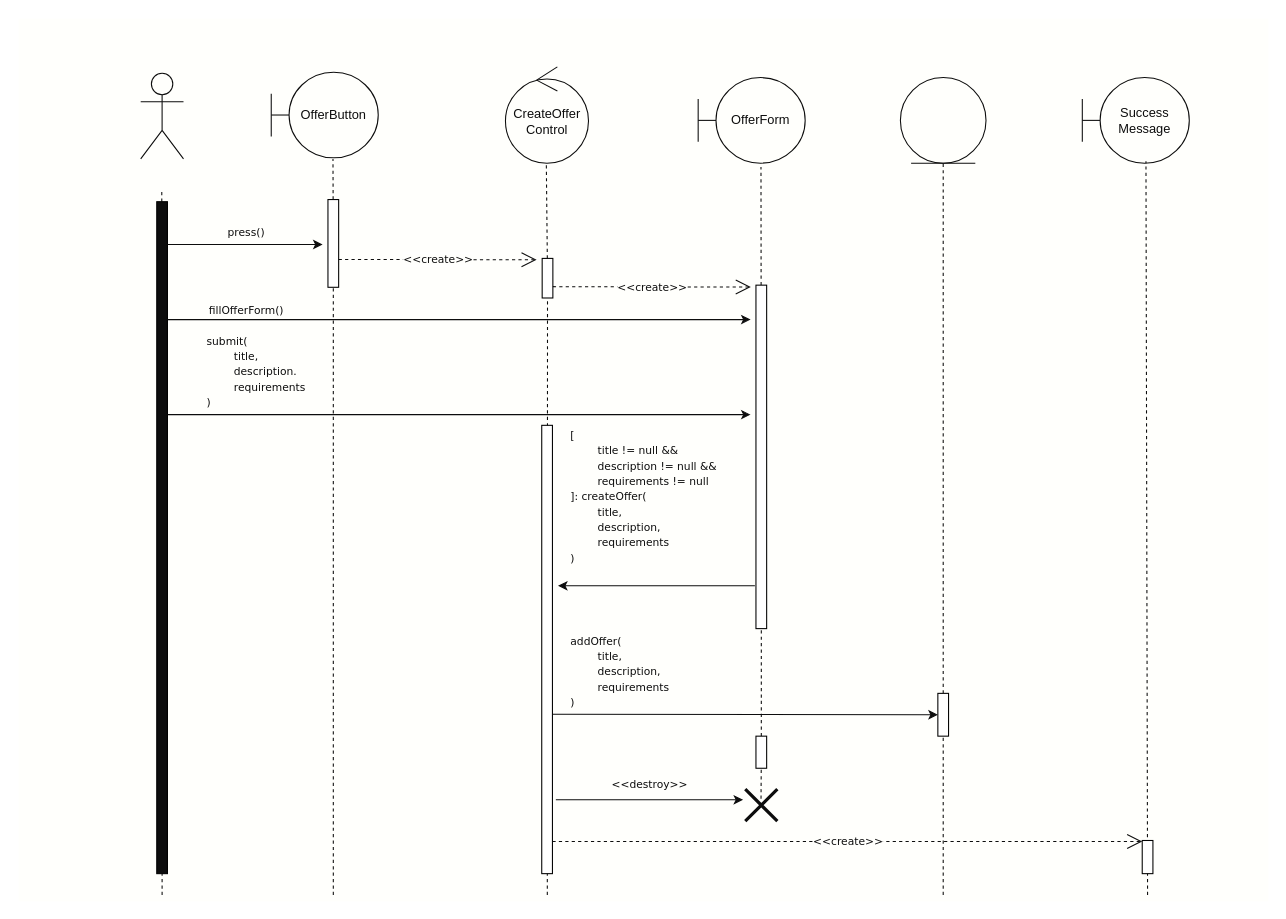
The diagram is 1286 pixels wide and 919 high, and some of its shapes have lost their labels. The centre of each missing label's shape, as x and y in pixels:
Datore di Lavoro: point (162, 115)
Offer: point (942, 120)
